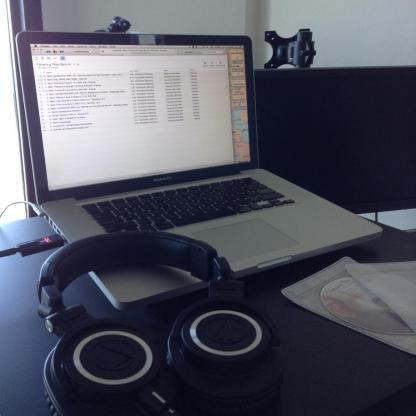board: (17, 31, 379, 307)
